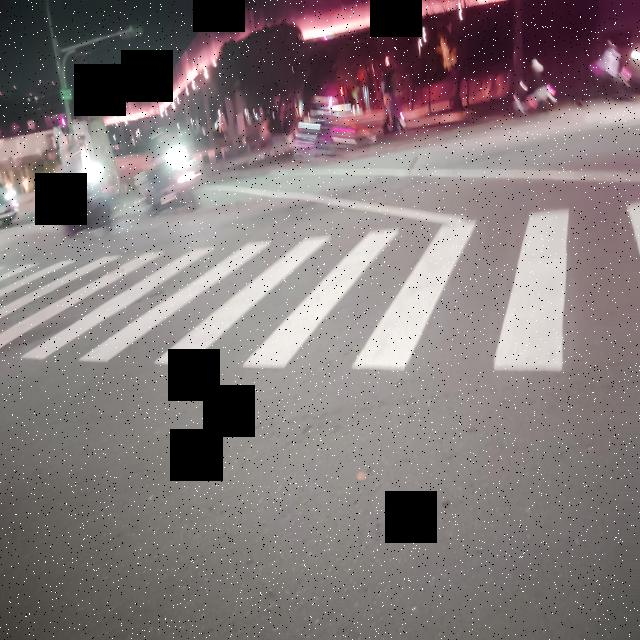zebra_crossing: (632, 69, 637, 330)
